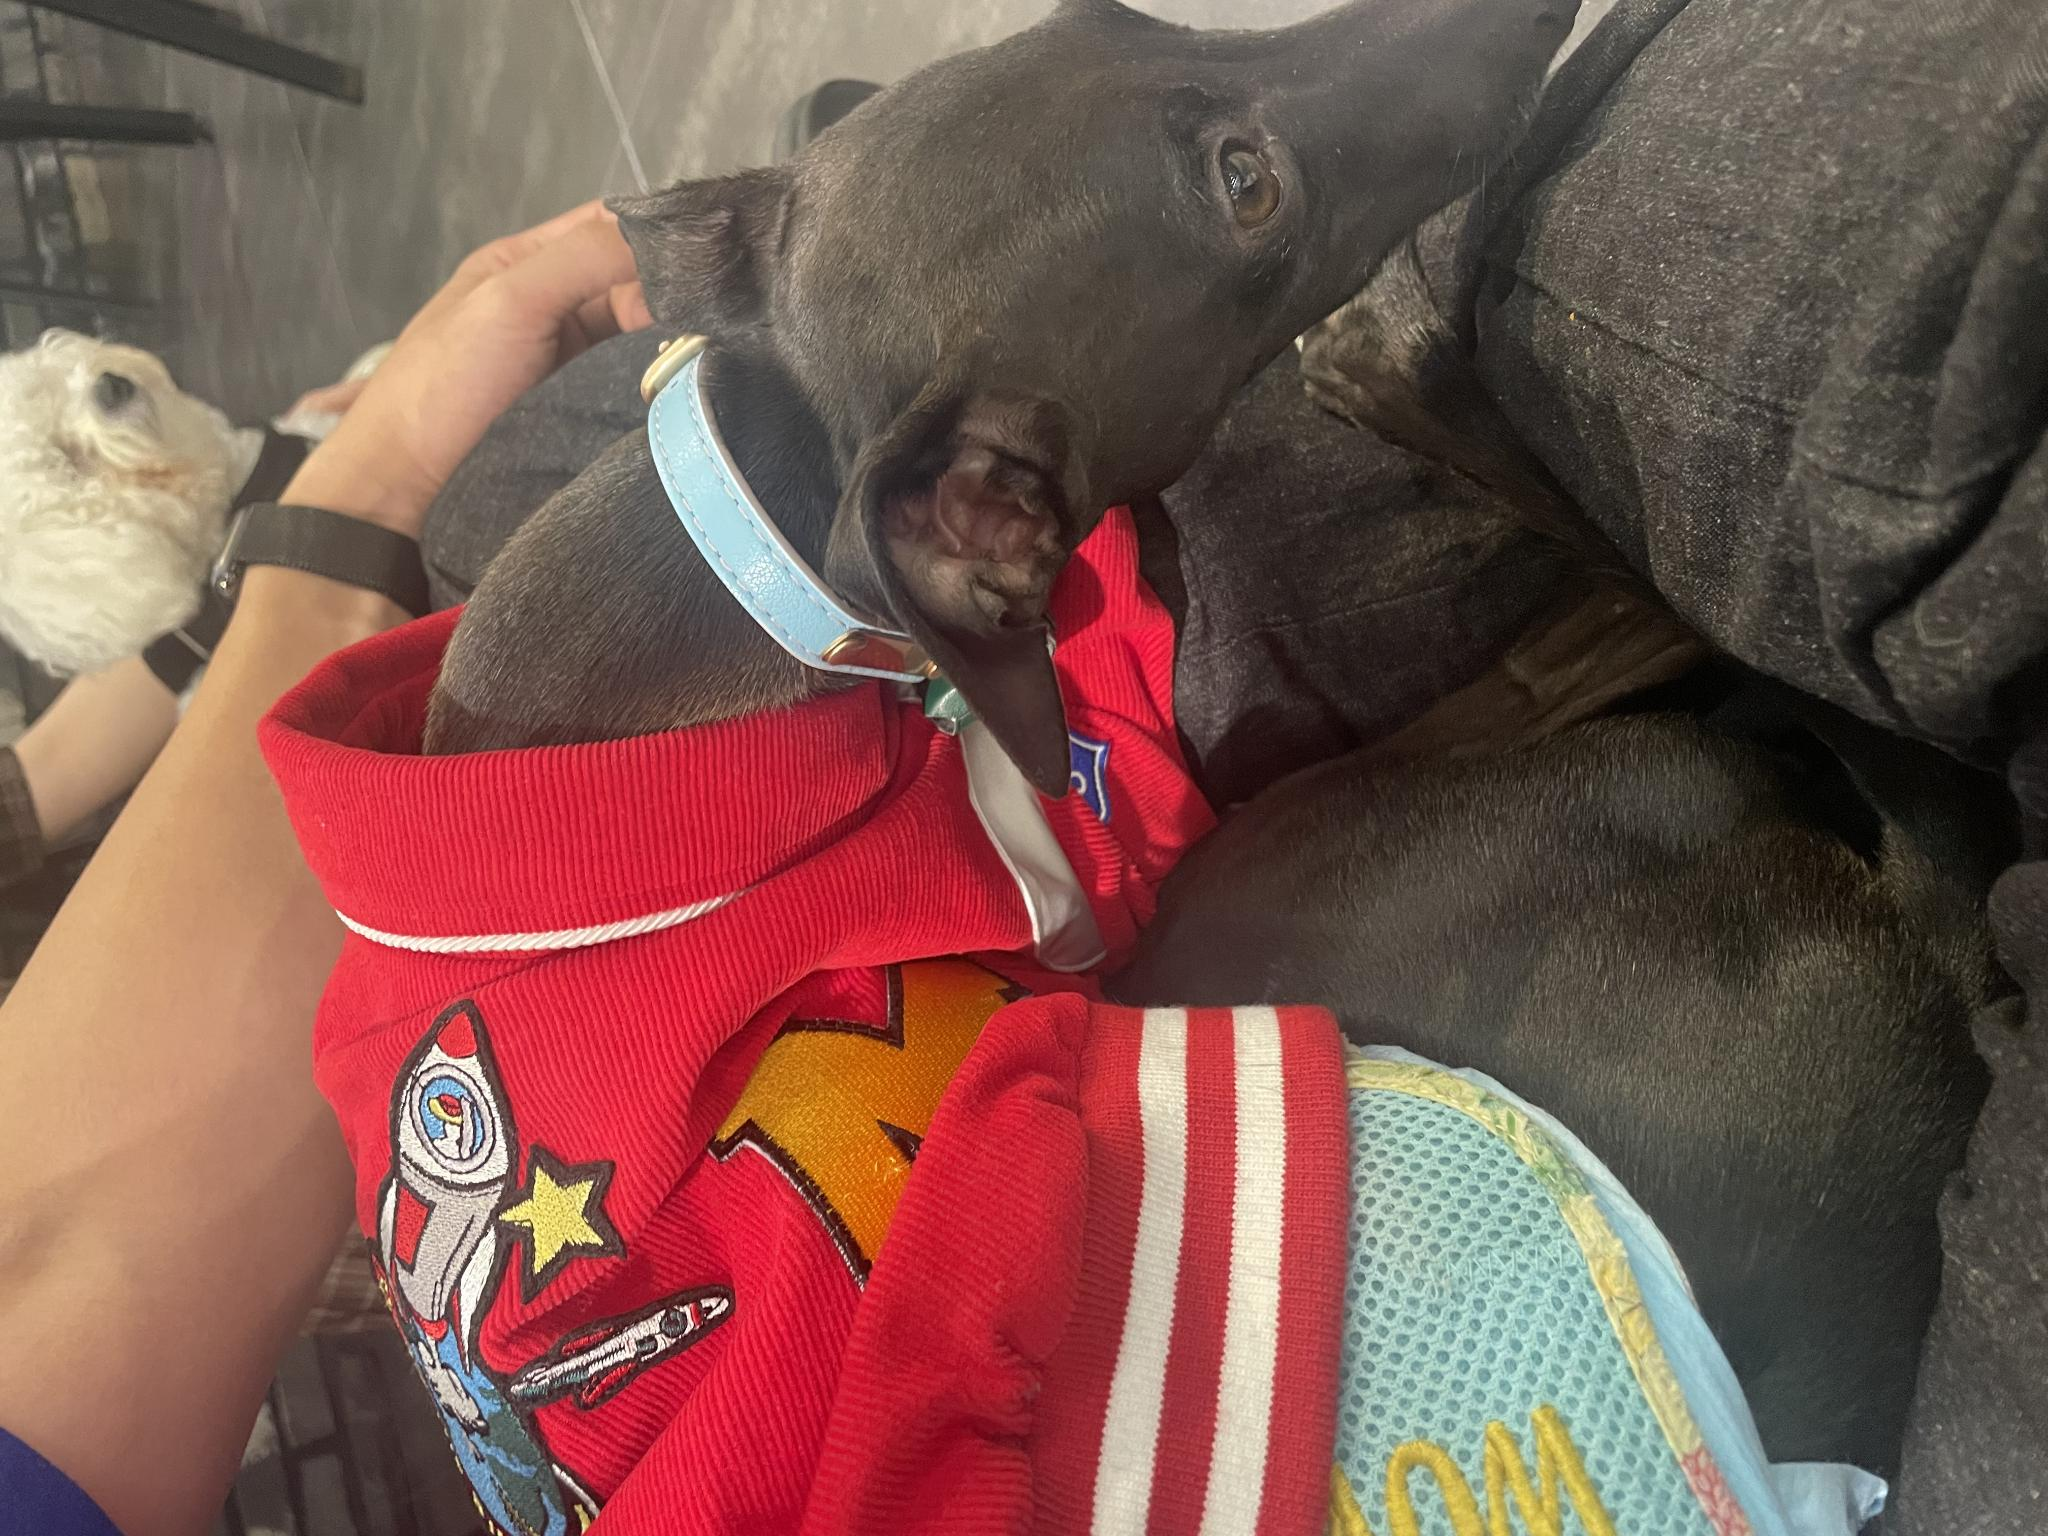dog: (33, 406, 1531, 1536), (846, 0, 1230, 212)
